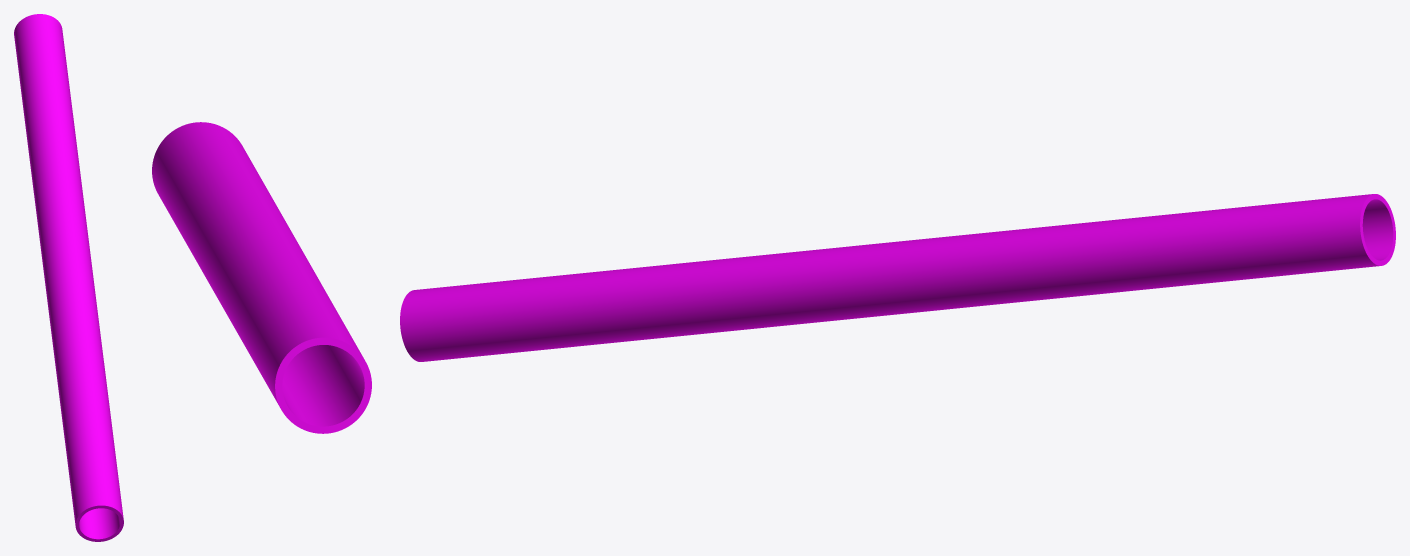
File: tunnell.fbx
3 renders of one model, left to right at view 1: azimuth 30°, elevation 25°; view 2: azimuth 210°, elevation 25°; view 3: azimuth 270°, elevation 25°, orthographic. The views are drawn at different scales.
Visible parts, largest first — view 1: polySurface2; view 2: polySurface2; view 3: polySurface2.
Part boxes in pixels (left/top/right/bottom): polySurface2: left=14, top=14, right=123, bottom=541; polySurface2: left=152, top=122, right=371, bottom=433; polySurface2: left=400, top=194, right=1395, bottom=361.
Bounding box in the file's own units: 28.8 × 21.52 × 55.73.
